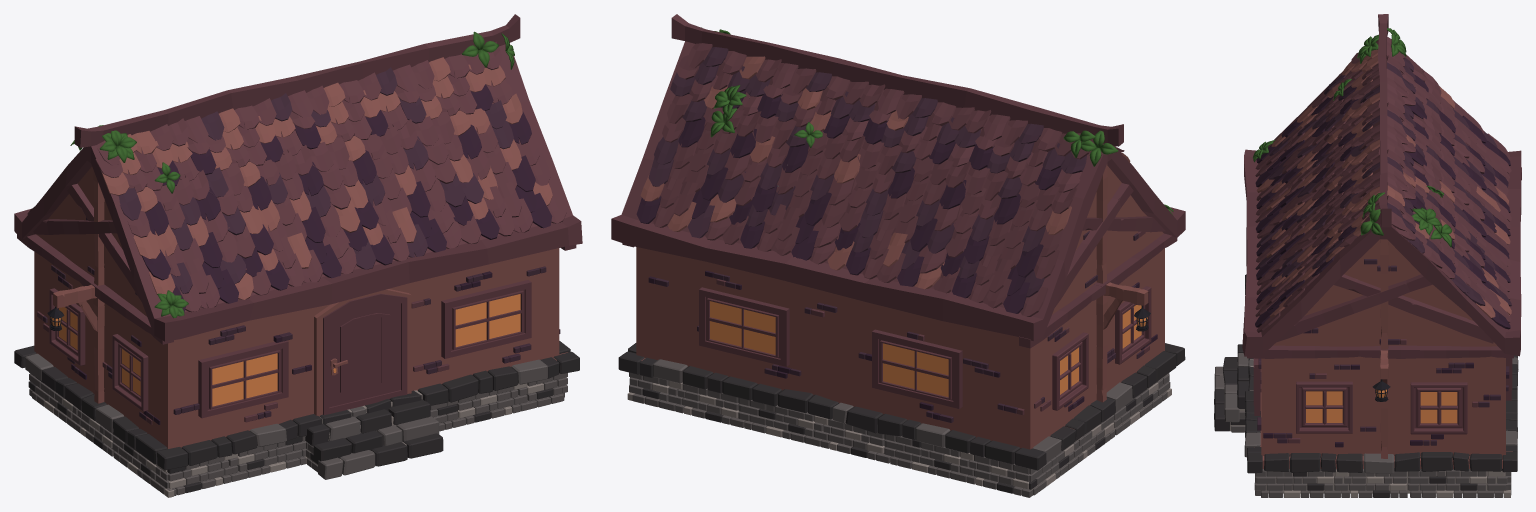
File: casa-pedra7.fbx
3 renders of one model, left to right at view 1: azimuth 30°, elevation 25°; view 2: azimuth 150°, elevation 25°; view 3: azimuth 270°, elevation 25°, orthographic. The views are drawn at different scales.
Visible parts, largest first — view 1: Cube.011, Cube.013; view 2: Cube.011; view 3: Cube.011.
Part boxes in pixels (x1,y1,x2,y2): Cube.011: (14, 14, 582, 497); Cube.013: (323, 293, 407, 414); Cube.011: (611, 14, 1185, 497); Cube.011: (1214, 14, 1521, 497).
Bounding box in the file's own units: 736 × 461 × 431.
